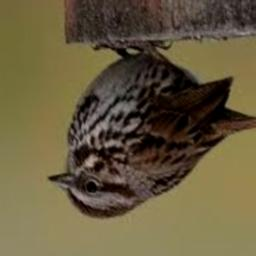Sparrow: (48, 39, 256, 219)
